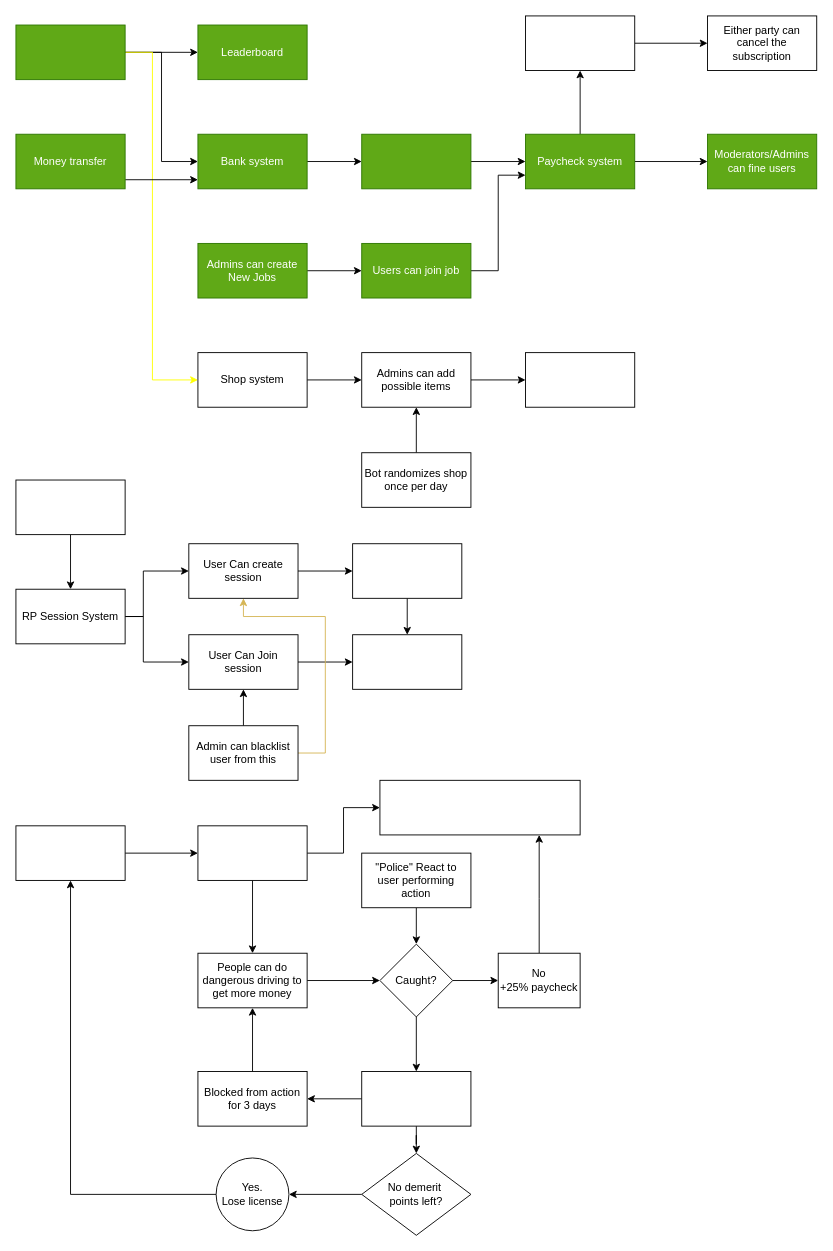
This 833x1251 diagram has some shape labels left out. Each missing label, with the box of its shape:
Agreed-upon Subscriptions system: (525, 15, 635, 71)
Bot Creates Private Channel: (352, 543, 462, 598)
Cars can let them get an early paycheck by going to work (once per 24h): (379, 779, 580, 835)
Member Joins Private Channel: (352, 634, 462, 689)
People can use cars: (197, 825, 307, 880)
Send/Recieve money From Bank: (361, 133, 471, 189)
Track money per user: (15, 24, 125, 80)
User can decide if they're french or spanish: (15, 479, 125, 535)
User's can get a license (demerit points: 10): (15, 825, 125, 880)
Users can sell items to shop to be bought by others: (525, 352, 635, 407)
Yes -2 Demerit point: (361, 1071, 471, 1126)
